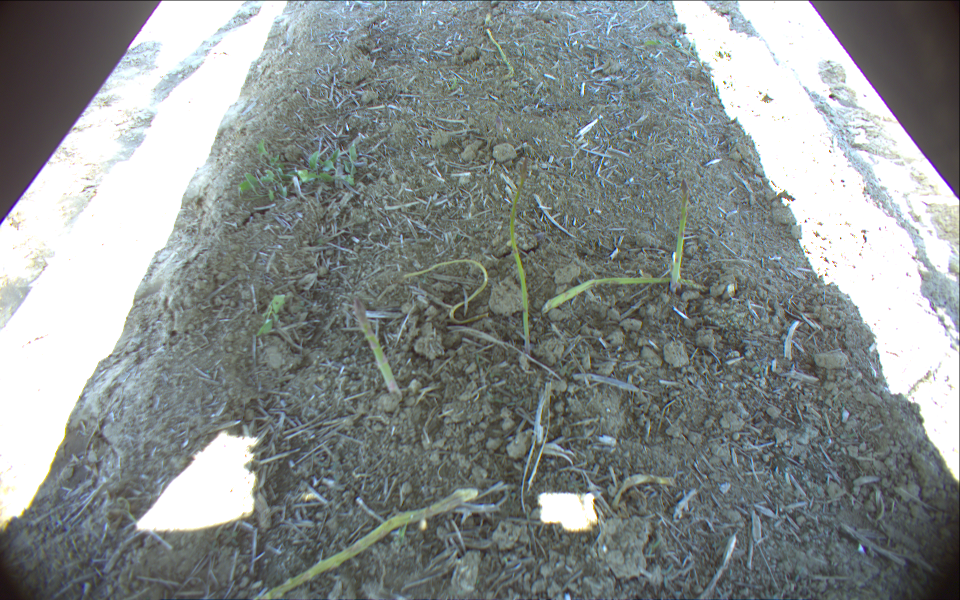aspa: (259, 488, 478, 600), (542, 276, 710, 313), (402, 259, 489, 323), (354, 297, 399, 399), (508, 156, 529, 358), (671, 178, 688, 292), (486, 30, 515, 80)
